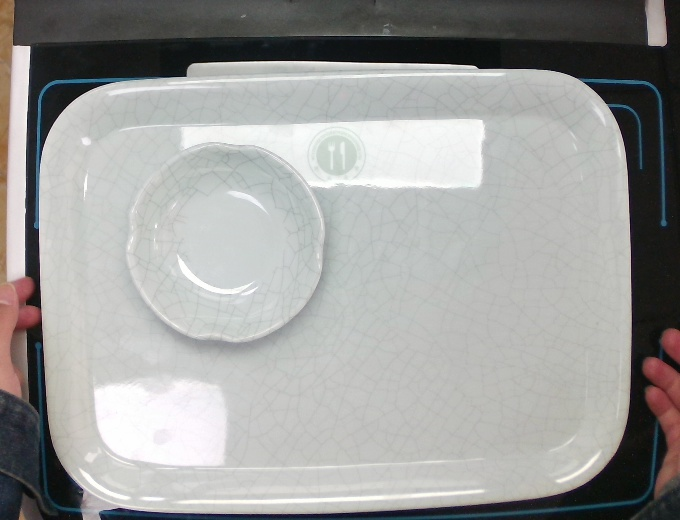JYsf-Ao_Yuan_Wan: (122, 139, 328, 348)
